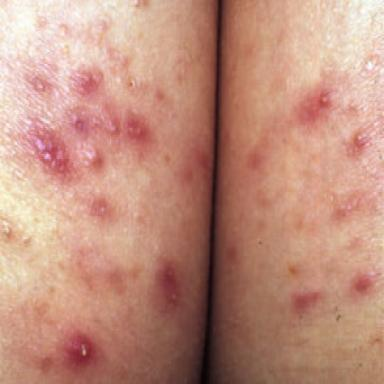acne: (32, 130, 69, 173), (65, 333, 94, 363), (71, 68, 103, 95), (334, 194, 365, 219), (159, 266, 178, 305), (125, 112, 149, 140), (293, 292, 320, 313), (354, 274, 372, 293), (91, 198, 109, 217), (353, 128, 367, 150), (85, 146, 97, 166), (72, 114, 84, 130), (33, 77, 45, 91), (105, 120, 117, 132), (320, 90, 330, 104)
